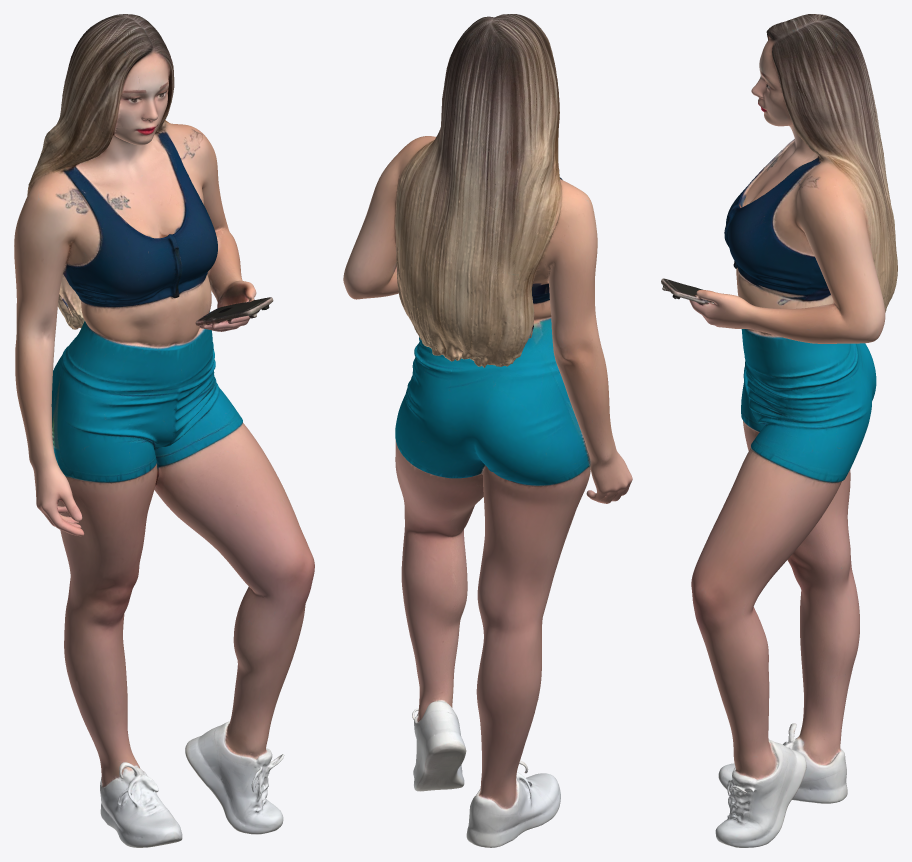
3 views of the same model, side by side, from view 1: azimuth 30°, elevation 25°; view 2: azimuth 150°, elevation 25°; view 3: azimuth 270°, elevation 25° (orthographic). The views are drawn at different scales.
Parts seen in each view (by area): view 1: mesh_0; view 2: mesh_0; view 3: mesh_0.
Part boxes in pixels (x1,y1,x2,y2): mesh_0: [14, 14, 314, 847]; mesh_0: [343, 14, 632, 847]; mesh_0: [661, 14, 897, 847].
Size of the model in its own units: 0.5967 by 1.9 by 0.5239.
1 material, 1 textured.
